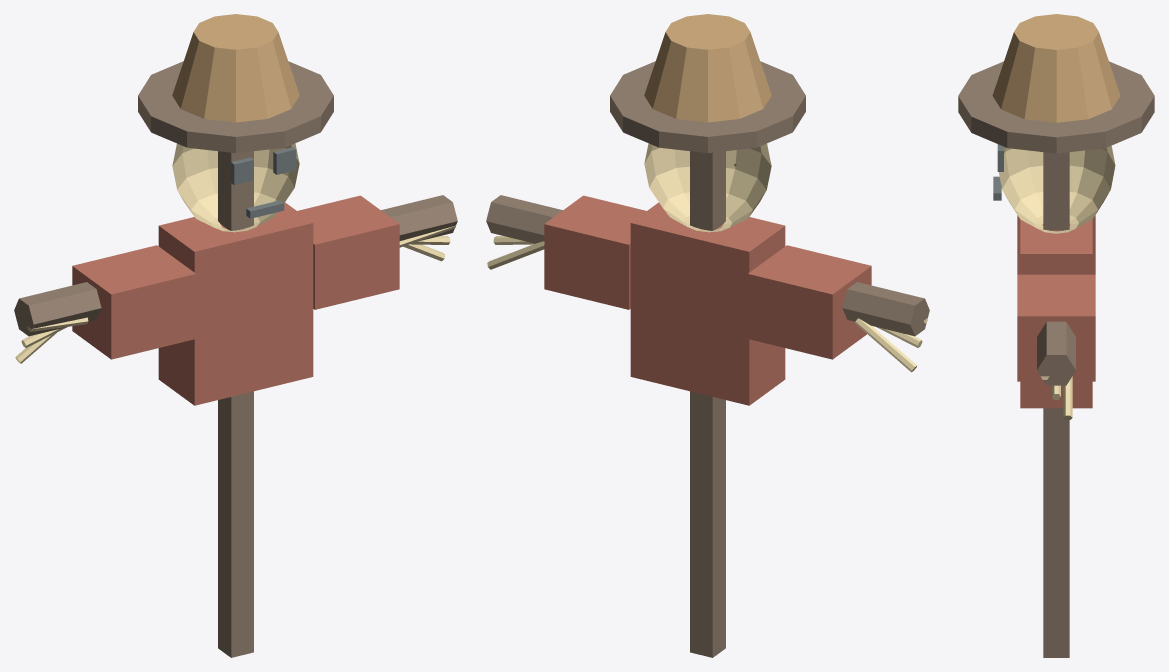
The model's file is harvest-hearth-patchwork-scarecrow__60.glb.
3 renders of one model, left to right at view 1: azimuth 30°, elevation 25°; view 2: azimuth 150°, elevation 25°; view 3: azimuth 270°, elevation 25°, orthographic.
Visible parts, largest first — view 1: harvest-hearth-scarecrow; view 2: harvest-hearth-scarecrow; view 3: harvest-hearth-scarecrow.
Boxes of the visible parts, x1,y1,x2,y2 form: harvest-hearth-scarecrow: [14, 14, 457, 657]; harvest-hearth-scarecrow: [486, 14, 929, 657]; harvest-hearth-scarecrow: [958, 14, 1154, 657].
Size of the model in its own units: 1.51 by 2.09 by 0.6.
